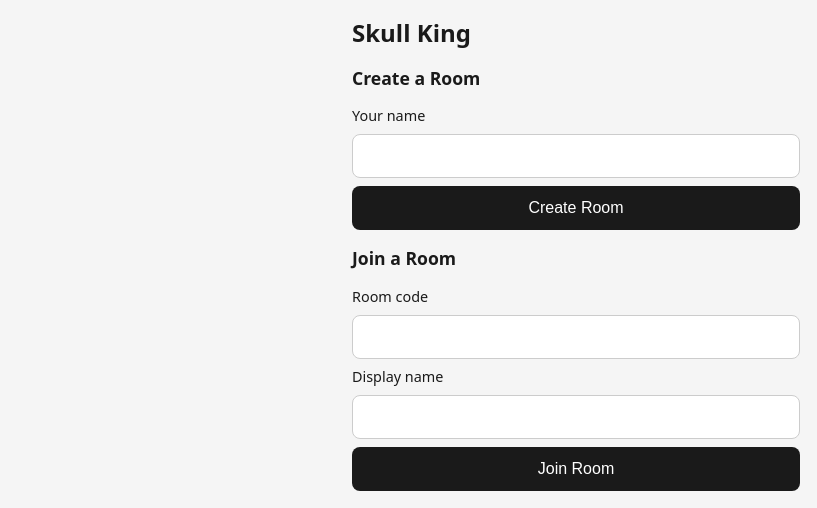
Test: App › does not let a Player resubmit once their Bid is recorded
This screenshot has width=817, height=508.
In the field labelled "Your name": (576,156) 352,134 -> 800,178, type "Alice"
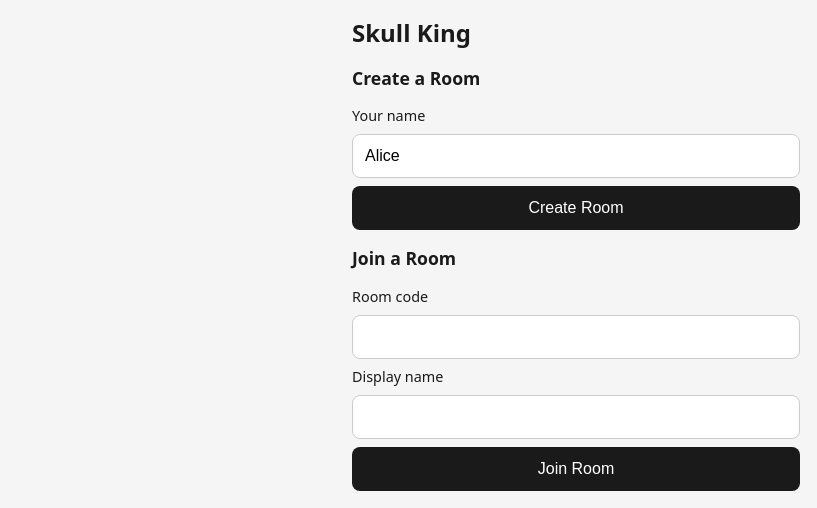
Click the button "Create Room": (576,208) 352,186 -> 800,230
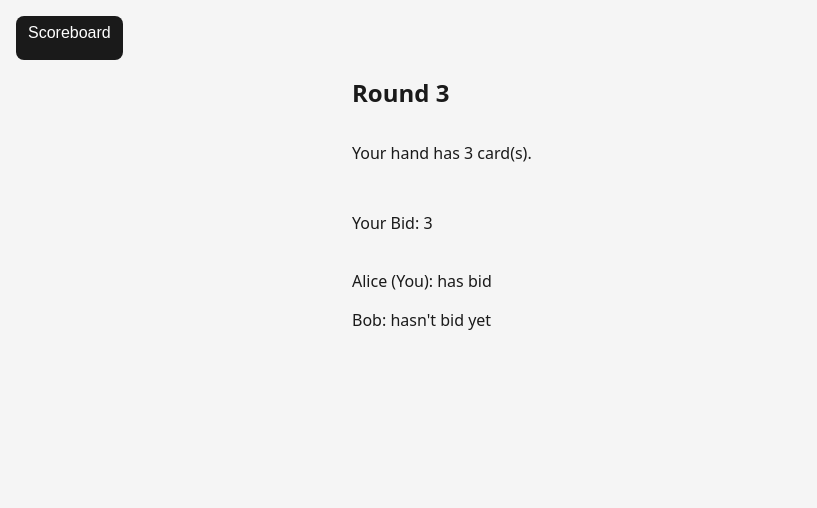
Expected: the text "Your Bid: 3" is shown, 352,212 -> 433,234
